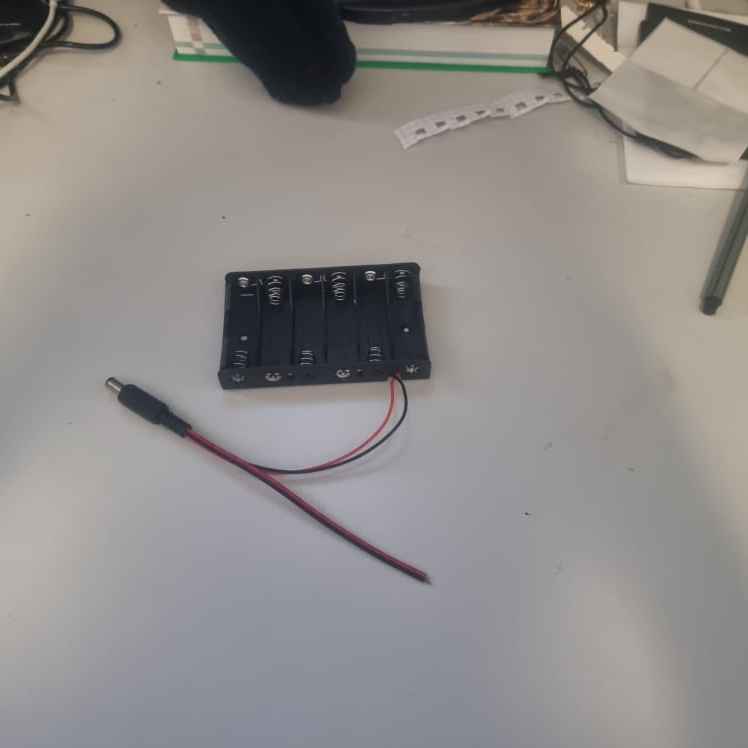BATTERY BOX: (216, 261, 432, 391)
